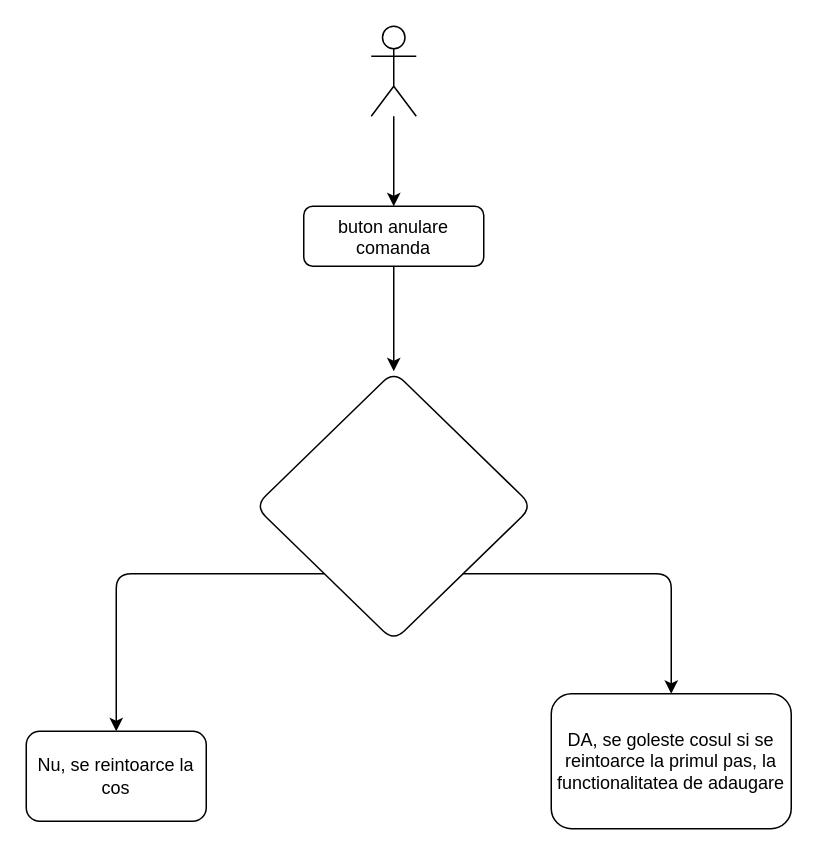
Image size: 818x855. Some labels were removed from this diagram. The centre of each missing label's shape, as x and y in pixels:
Cos: the point at 393,70
se mai intreaba odata daca utilizatorul este sigur ca doreste anularea: the point at 393,505
